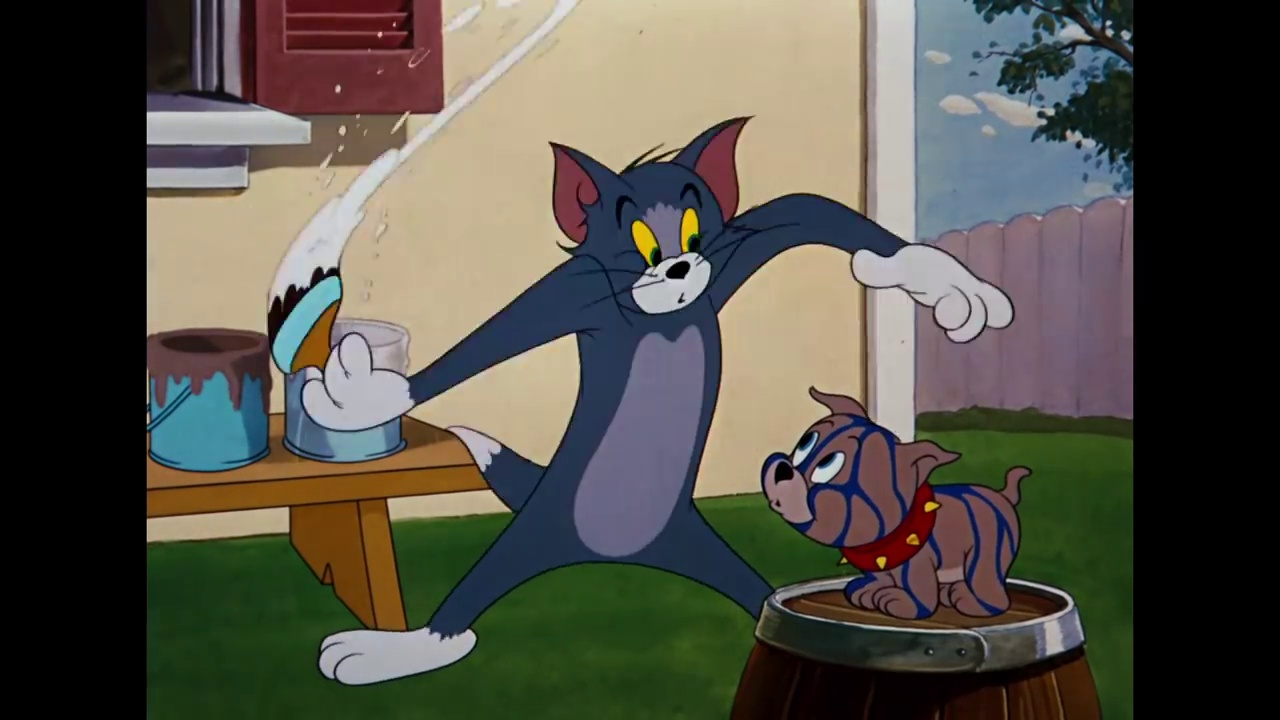tom: (537, 112, 763, 324)
